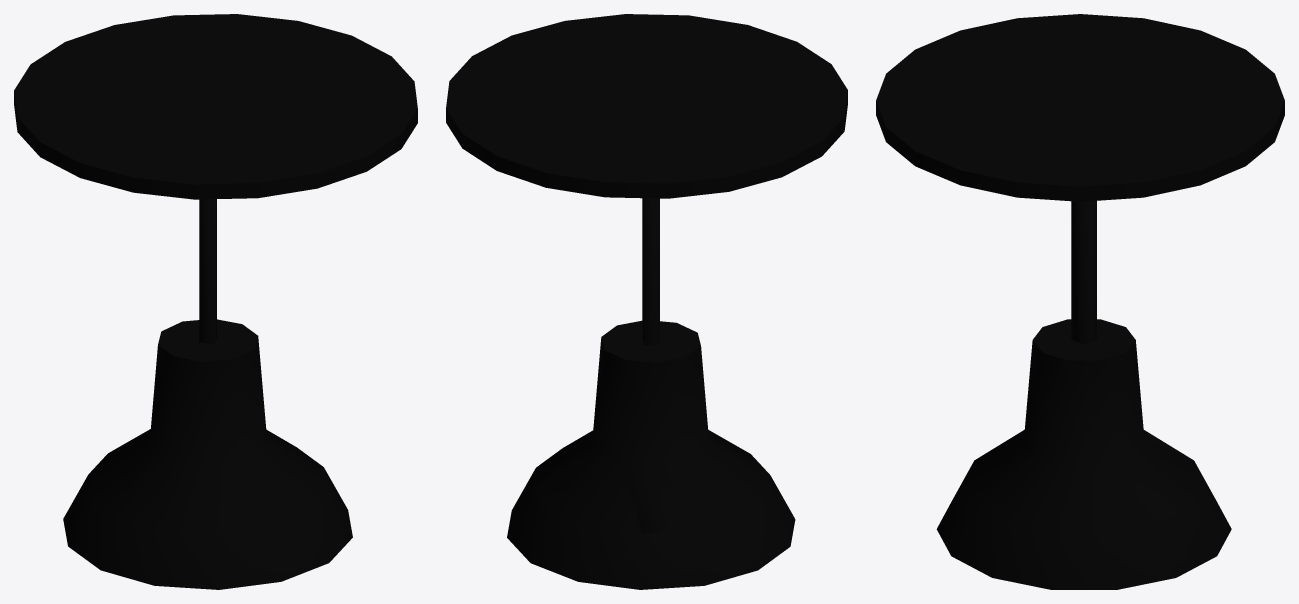
Rendered from lamp.obj.
3 views of the same model, side by side, from view 1: azimuth 30°, elevation 25°; view 2: azimuth 150°, elevation 25°; view 3: azimuth 270°, elevation 25° (orthographic).
Visible parts, largest first — view 1: polySurface2; view 2: polySurface2; view 3: polySurface2.
Part boxes in pixels (<box>): polySurface2: <box>14,14,417,589</box>; polySurface2: <box>446,14,847,589</box>; polySurface2: <box>876,14,1284,589</box>.
Bounding box in the file's own units: 1.35 × 1.58 × 1.35.
Materials: 2 (2 with a texture image).
